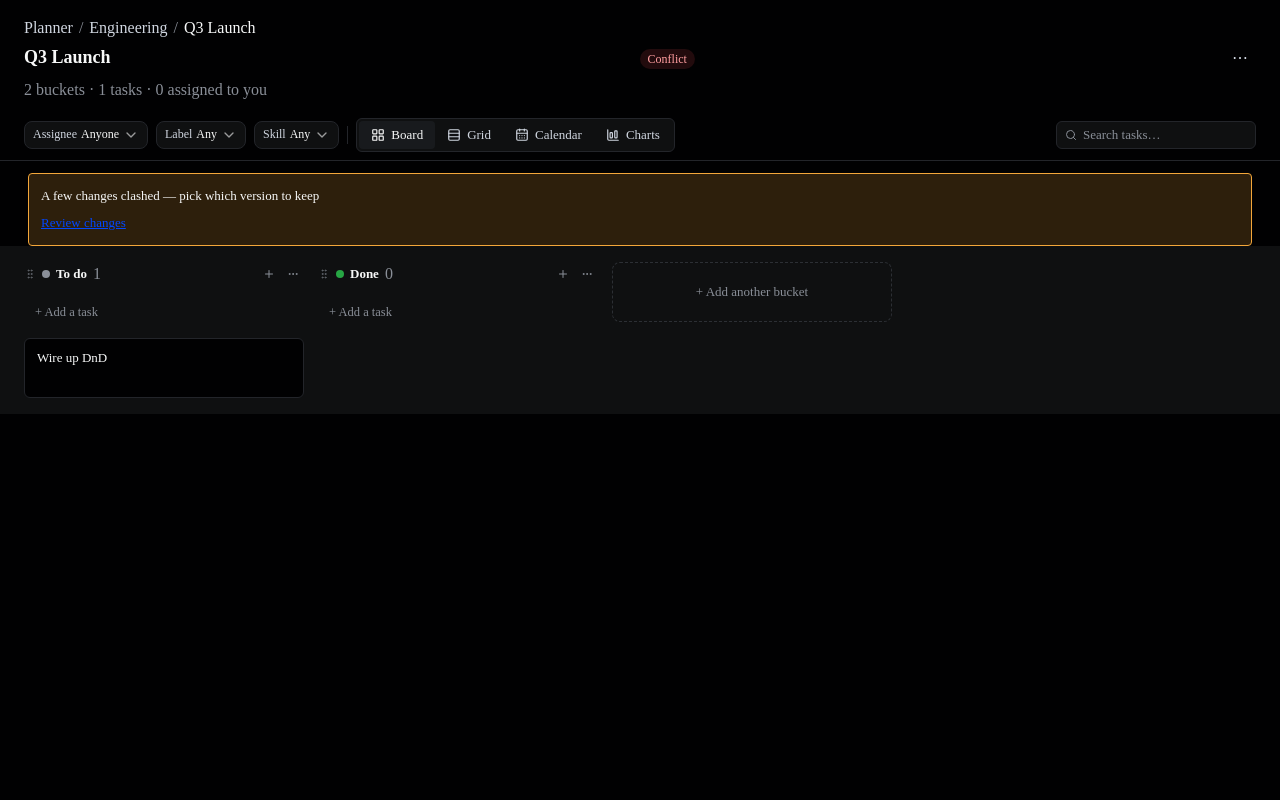
Scenario: PlanPage (via PlanBoardShell) › renders a conflict banner with a review button that opens the conflicts dialog
Expected: the element with test id "plan-sync-conflict-banner" is shown, x1=28 y1=172 x2=1252 y2=246
Click the button "Review changes" at (83, 223), box x1=41 y1=213 x2=126 y2=232
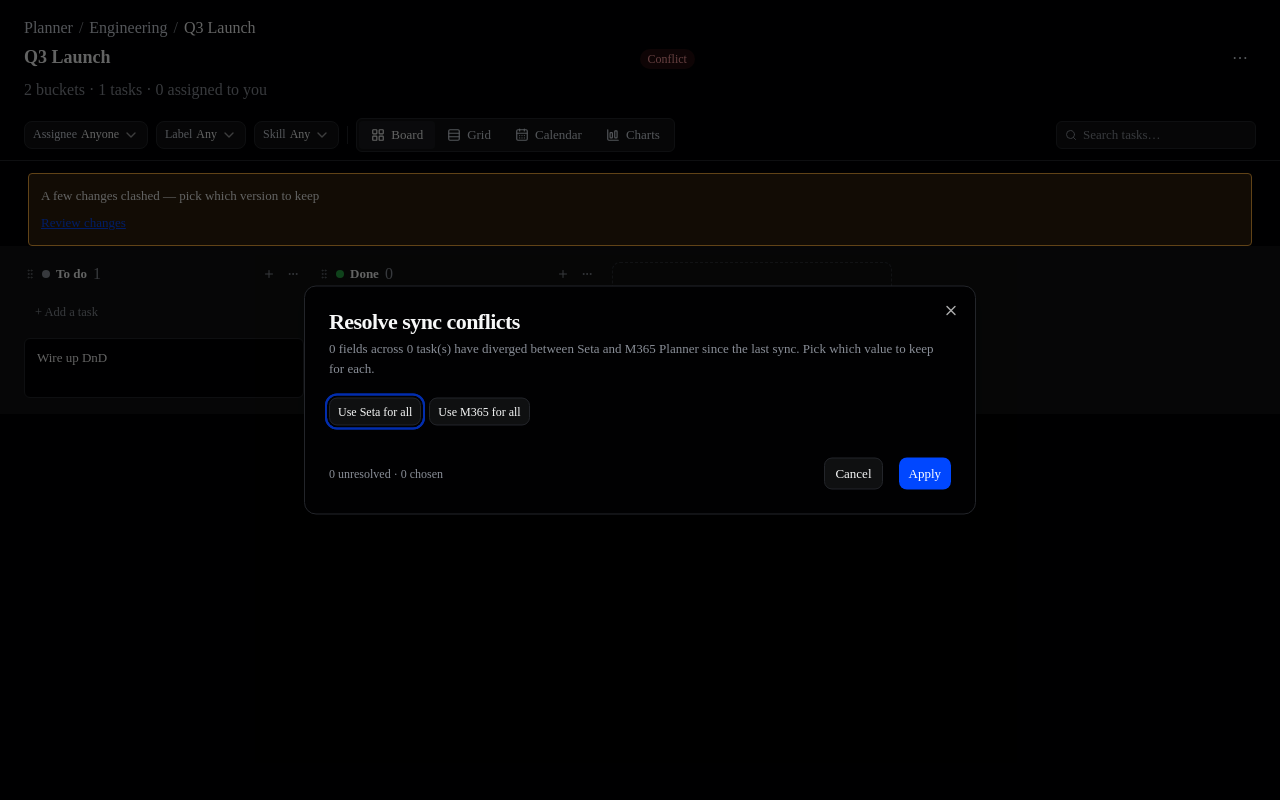
Expected: the heading "Resolve sync conflicts" is shown, x1=329 y1=308 x2=520 y2=334
